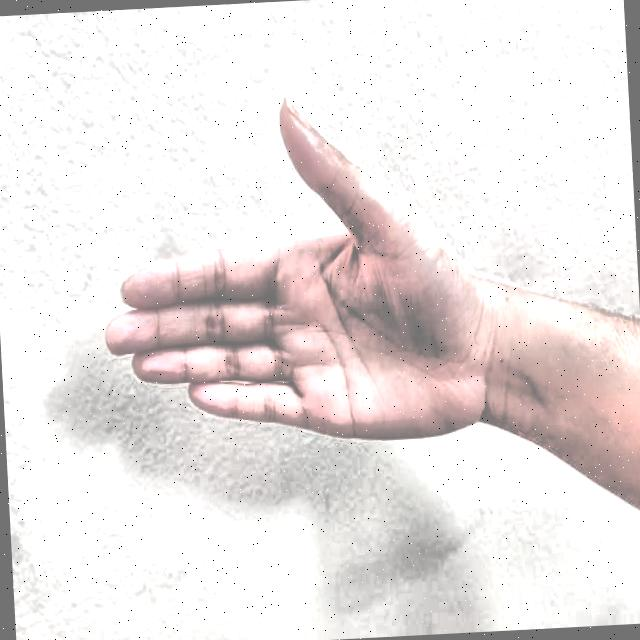Aa: (64, 58, 493, 480)
